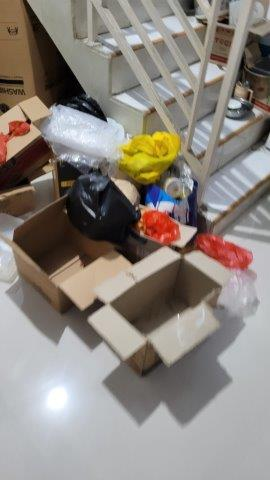plastik: (35, 108, 129, 167), (70, 176, 137, 241), (211, 271, 261, 316), (197, 232, 254, 265), (146, 211, 181, 240)
